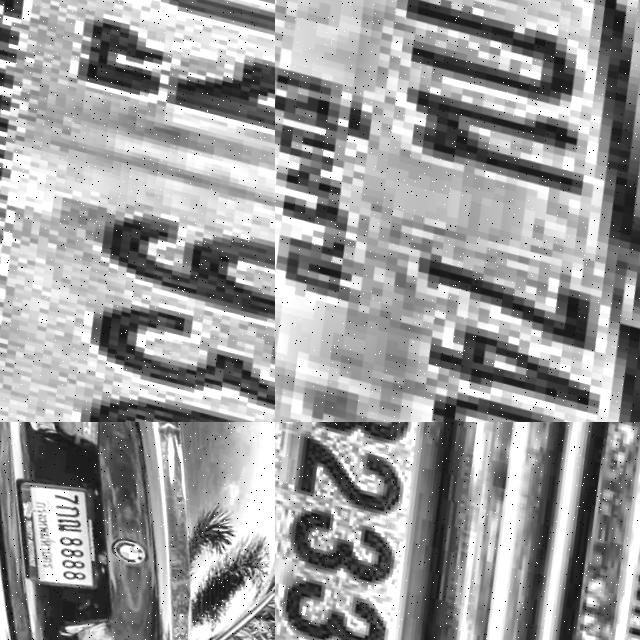license-plate: (275, 0, 640, 422), (0, 0, 275, 422), (275, 422, 555, 640), (489, 422, 640, 640), (0, 463, 106, 593)
